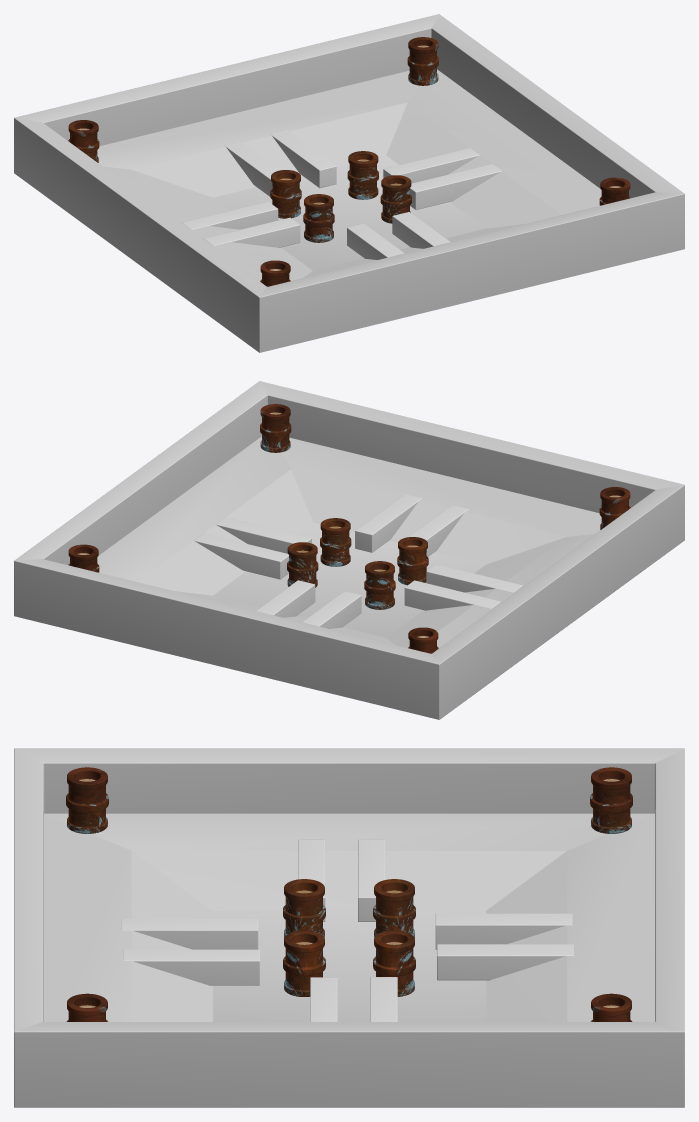
Rendered from env.gltf.
The picture shows the model from 3 angles, top to bottom: view 1: azimuth 30°, elevation 25°; view 2: azimuth 150°, elevation 25°; view 3: azimuth 270°, elevation 25°; orthographic projection. The views are drawn at different scales.
Parts seen in each view (by area): view 1: Plane-col; view 2: Plane-col; view 3: Plane-col.
Boxes of the visible parts, x1,y1,x2,y2 form: Plane-col: (14, 14, 684, 352); Plane-col: (14, 381, 684, 719); Plane-col: (14, 748, 684, 1107).
Bounding box in the file's own units: 48.98 × 6.39 × 48.98.
4 materials, 2 textured.
